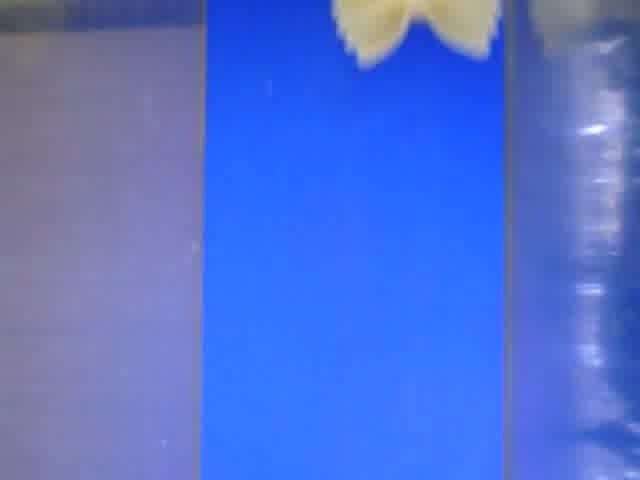farfalle: (330, 1, 499, 70)
